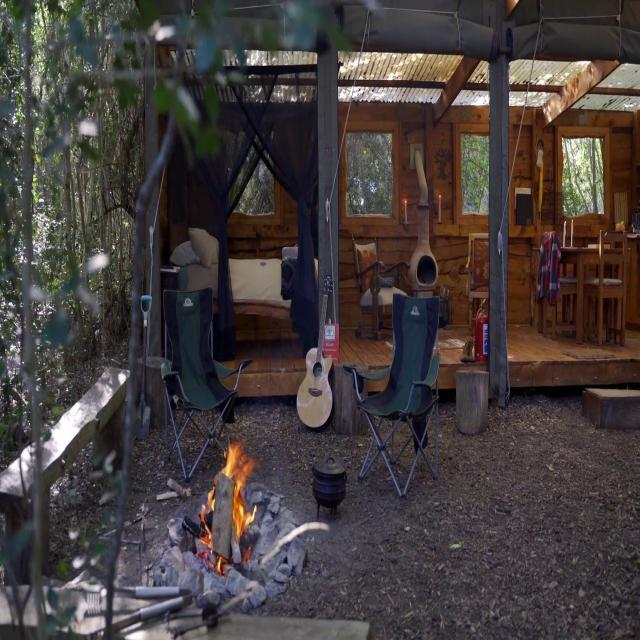Fire: (200, 436, 256, 568)
